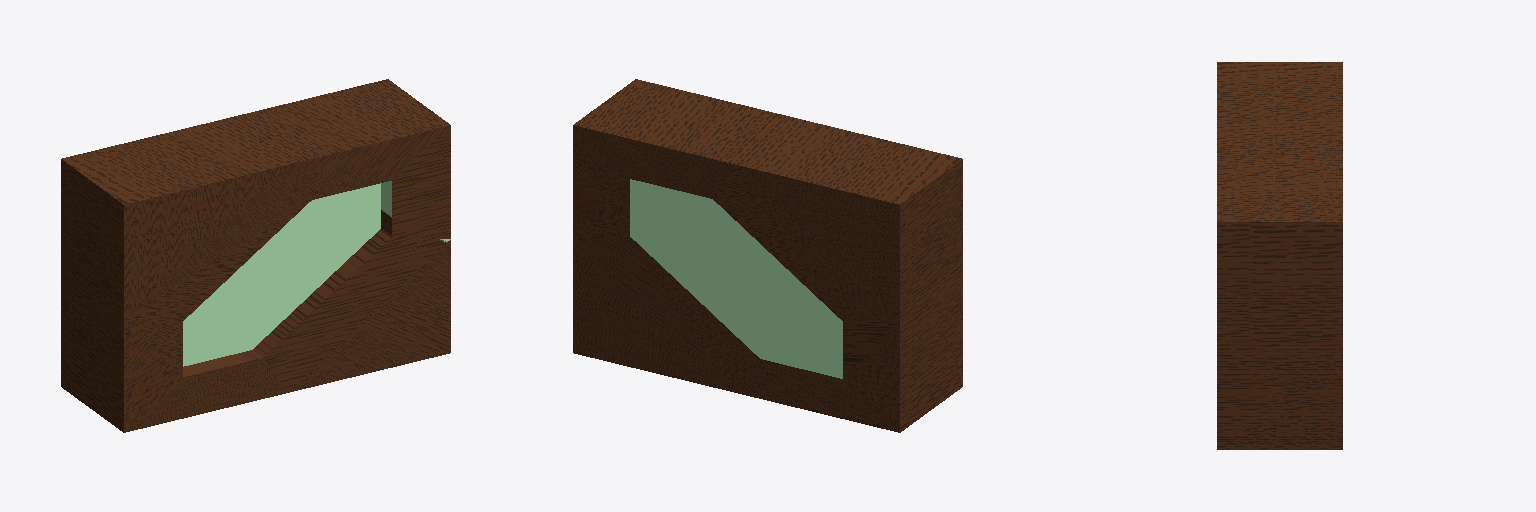
The picture shows the model from 3 angles: view 1: azimuth 30°, elevation 25°; view 2: azimuth 150°, elevation 25°; view 3: azimuth 270°, elevation 25°; orthographic projection.
Parts seen in each view (by area): view 1: Cube; view 2: Cube; view 3: Cube.
Boxes of the visible parts, x1,y1,x2,y2 form: Cube: [61, 79, 450, 432]; Cube: [573, 79, 962, 432]; Cube: [1217, 62, 1342, 449].
Bounding box in the file's own units: 3 × 2 × 1.
Materials: 1 (1 with a texture image).